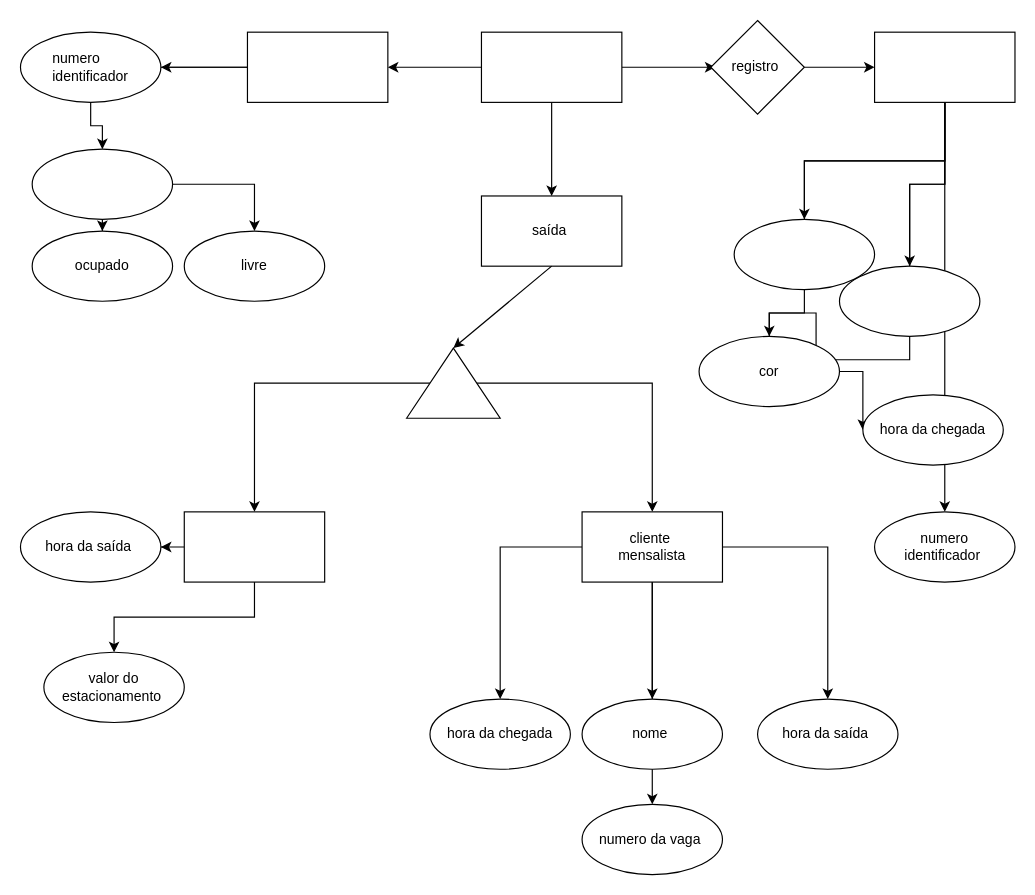
Some shapes in this 1035 by 895 pixel diagram are drawn without their labels. The shapes that lost their labels are listed below. From the top down, each one's centre as x and y in pixels, then its label:
the point at 317,66: vaga
the point at 551,66: estacionamento
the point at 944,66: comprovante
the point at 102,183: status
the point at 804,254: placa
the point at 909,300: marca
the point at 254,546: cliente
